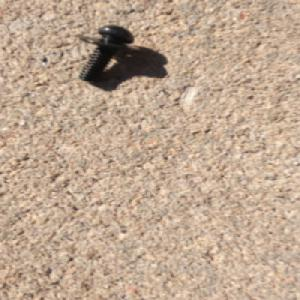BoltWasher: (75, 24, 140, 82)
